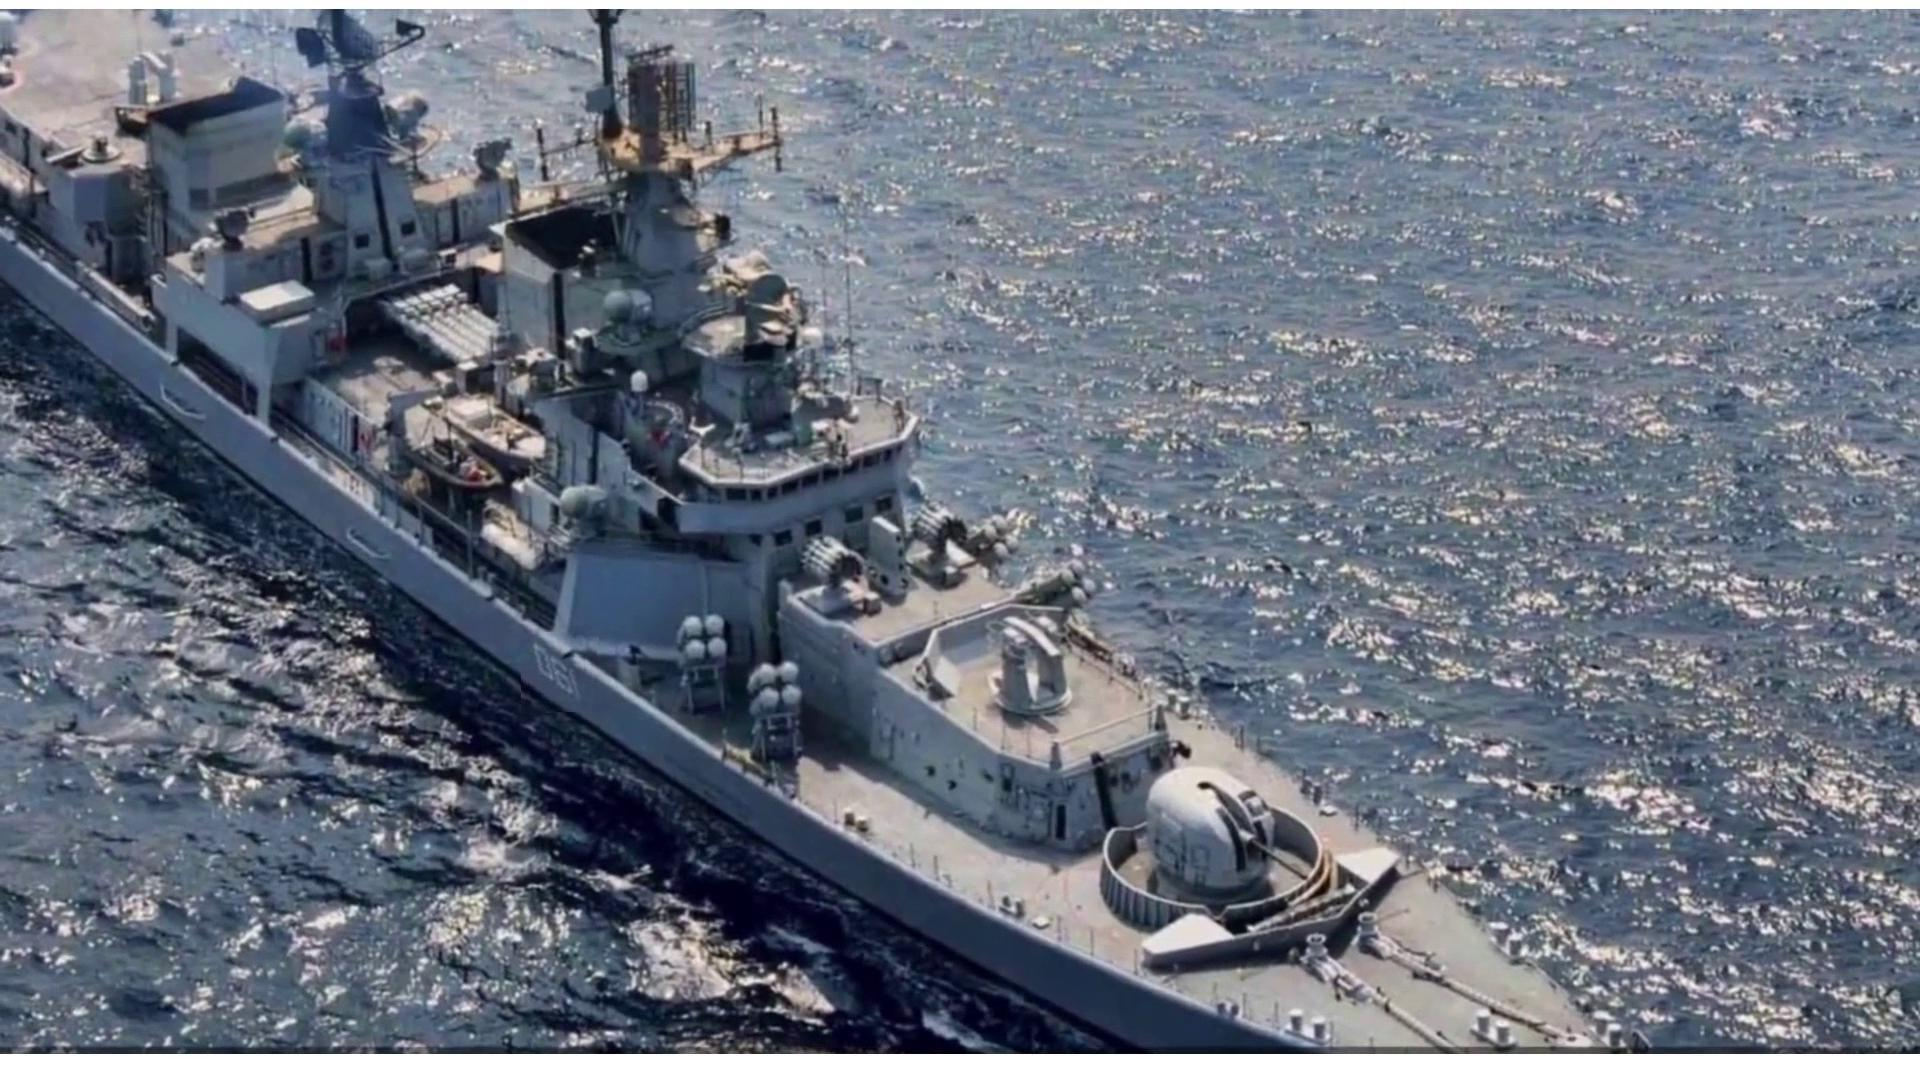OCR: (521, 632, 600, 714)
